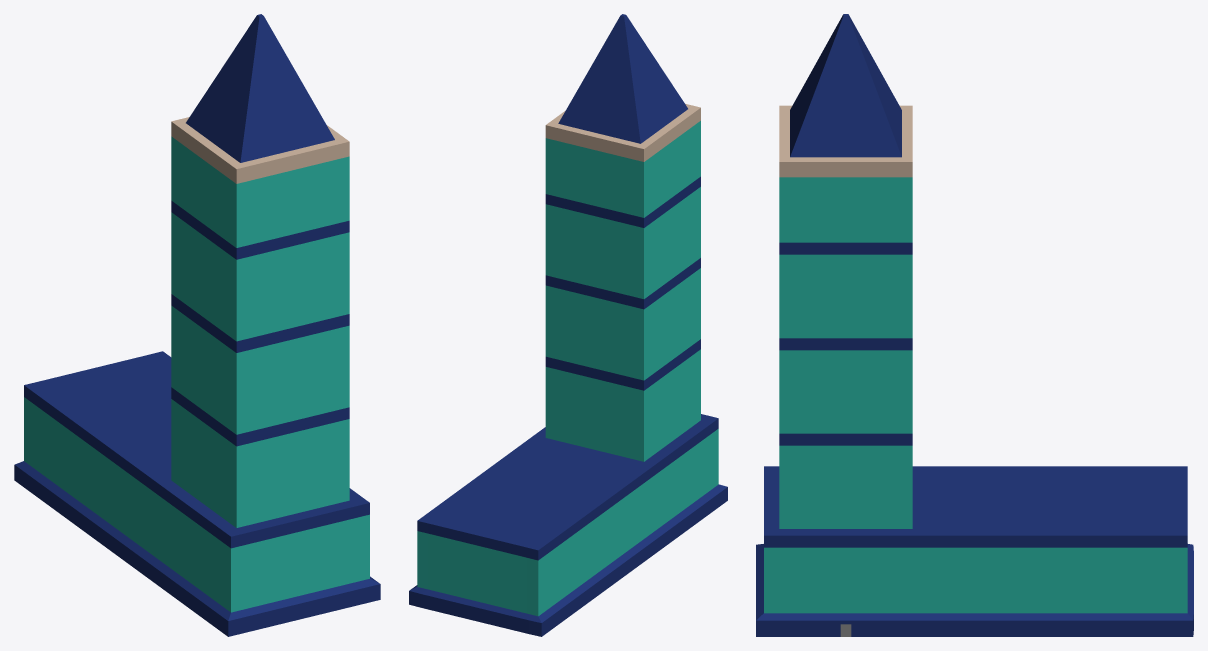
The model's file is Skyscraper6.fbx.
The picture shows the model from 3 angles, left to right: view 1: azimuth 30°, elevation 25°; view 2: azimuth 150°, elevation 25°; view 3: azimuth 270°, elevation 25°; orthographic projection. The views are drawn at different scales.
Parts seen in each view (by area): view 1: Skyscraper6; view 2: Skyscraper6; view 3: Skyscraper6.
Part boxes in pixels (x1,y1,x2,y2): Skyscraper6: (14, 14, 380, 636); Skyscraper6: (409, 14, 727, 636); Skyscraper6: (756, 14, 1193, 636).
Bounding box in the file's own units: 270 × 964 × 656.
